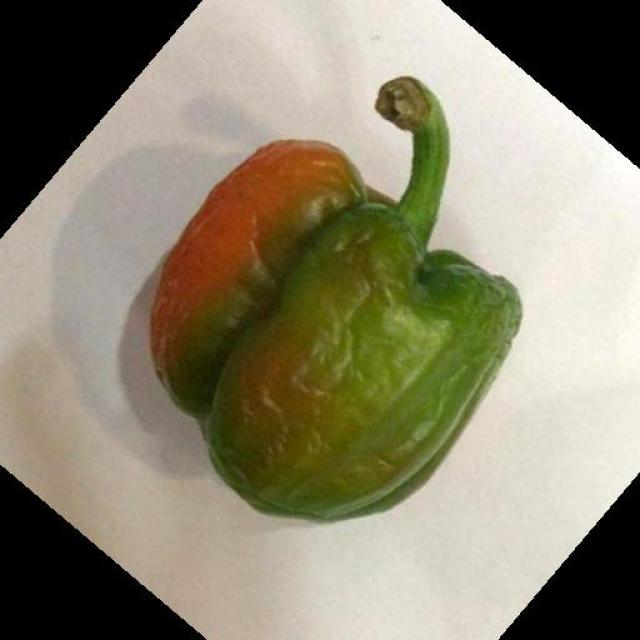Stale_Capsicum: (158, 78, 530, 508)
